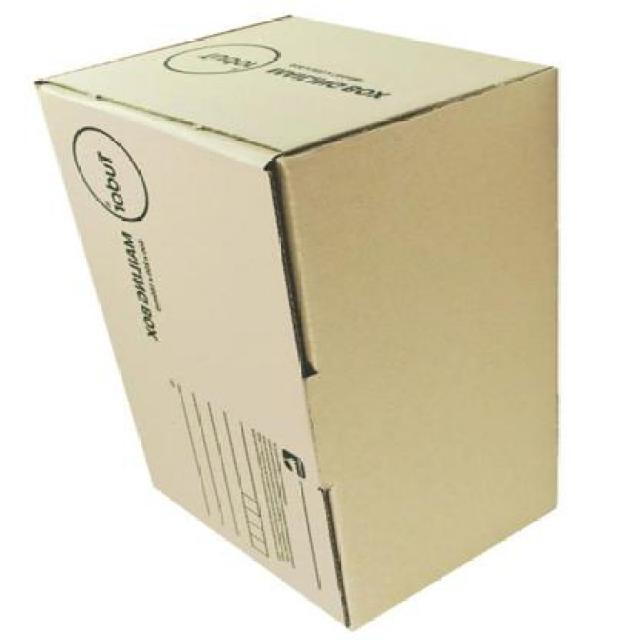normal: (34, 16, 568, 630)
